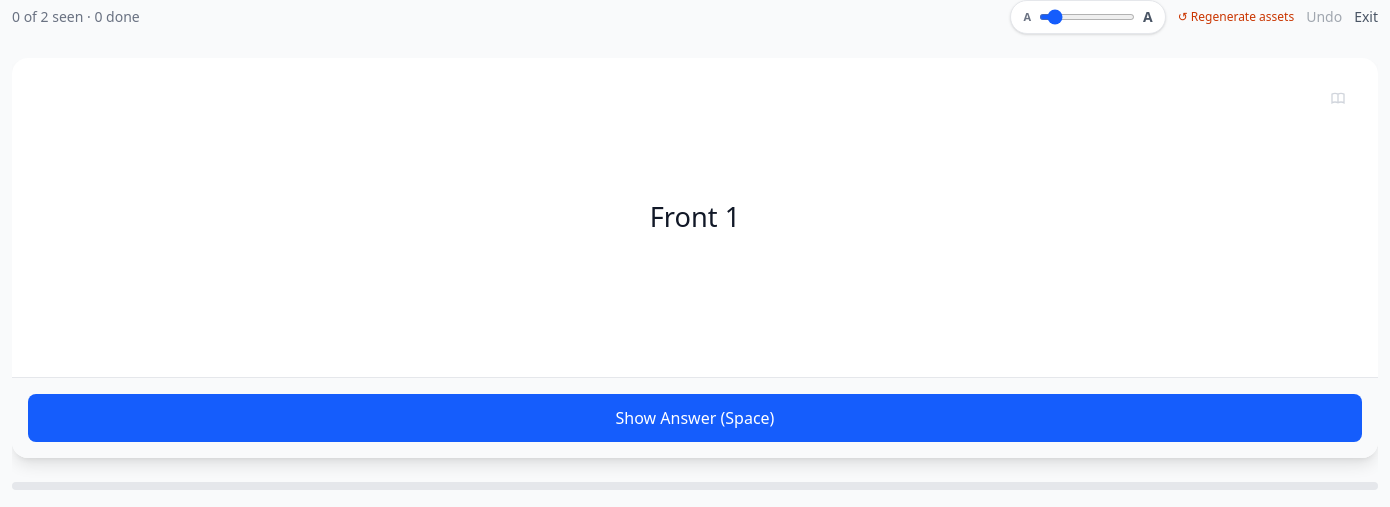
it: FlashcardReview mnemonics: the teacher asks, nothing is suggested on its own › a teacher’s review generates only on the button, once per press, on any card
Click the button "Show Answer (Space)" at coordinates (695, 418), box [28,394,1362,442]
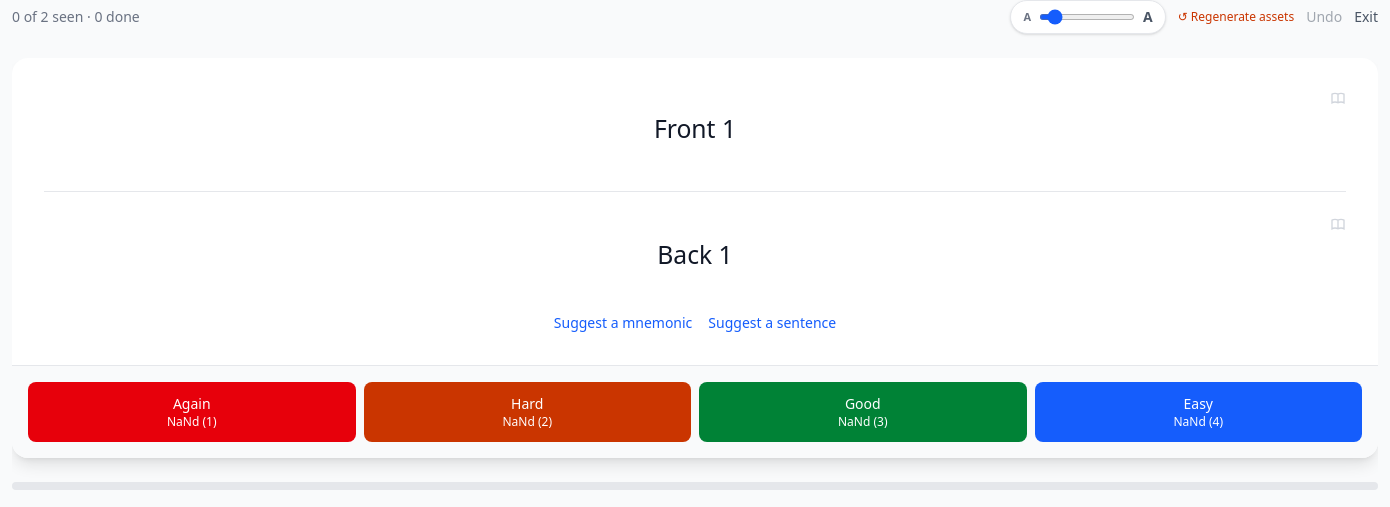
Click the button "Suggest a mnemonic" at coordinates (623, 323), box [554,313,692,333]
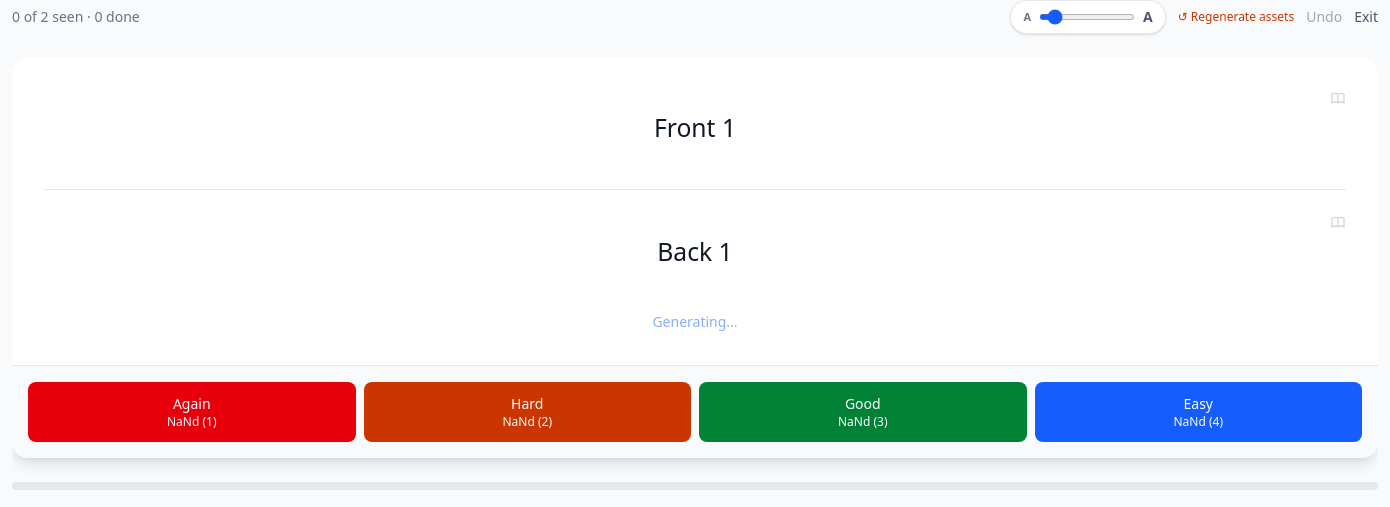
Rating advances to card 2, and its flip asks for nothing either.
Click the text "Good" at coordinates (863, 404), box [845,394,881,413]
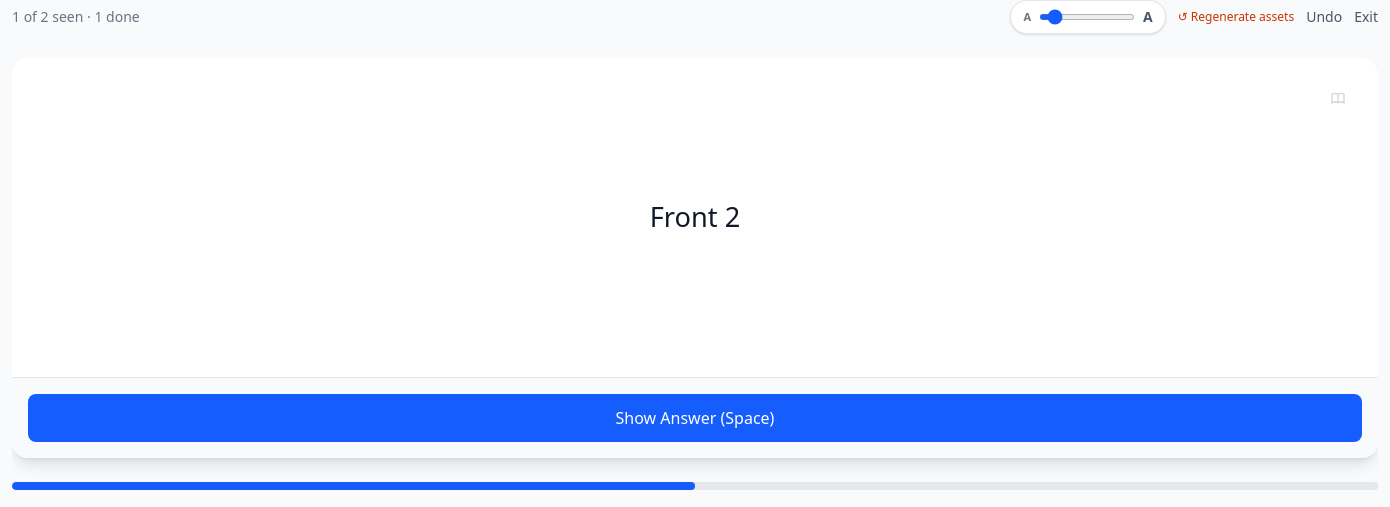
Result: the text "Front 2" is shown at [650,197,740,238]
Click the button "Show Answer (Space)" at coordinates (695, 418), box [28,394,1362,442]
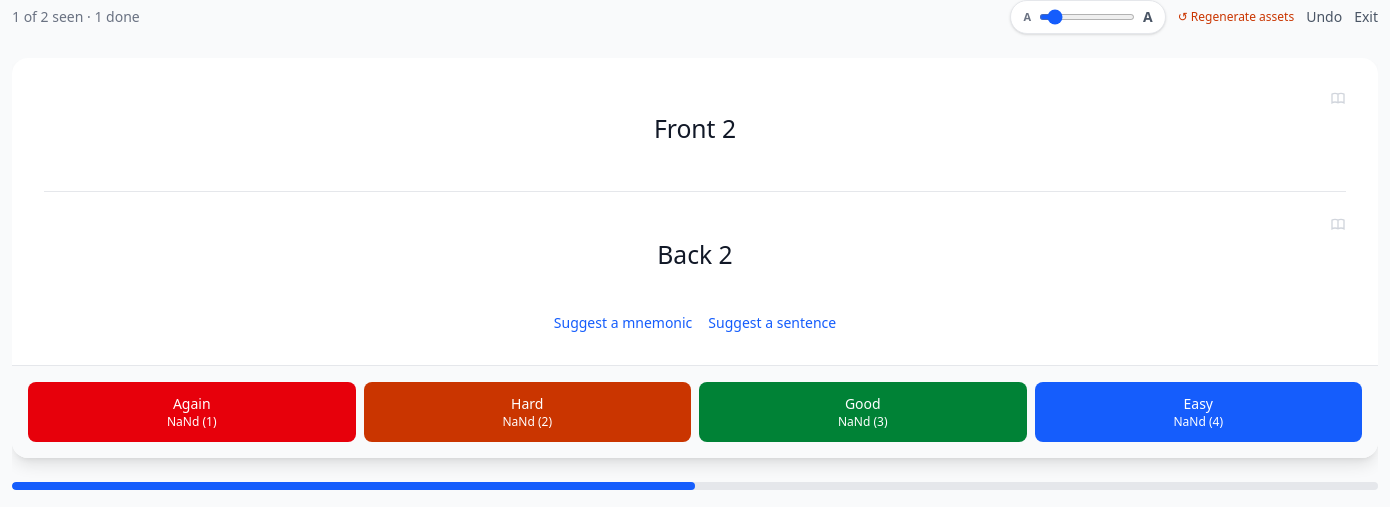
Result: the button "Suggest a mnemonic" is shown at [554,313,692,333]
